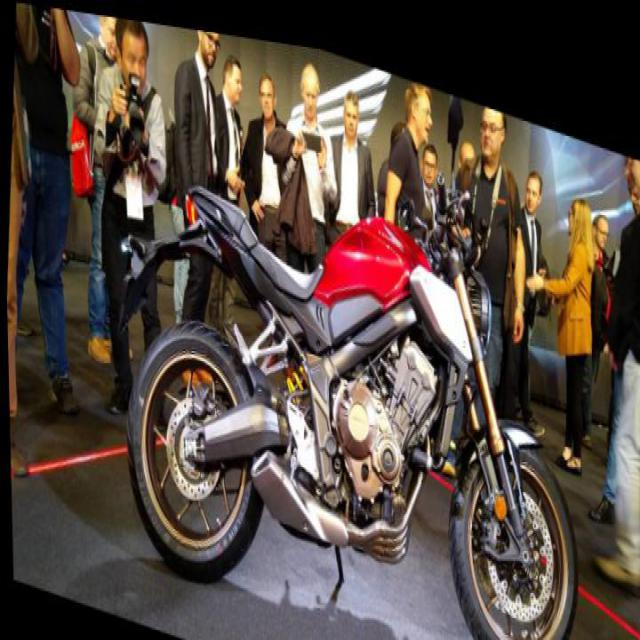CB650R: (106, 110, 594, 638)
